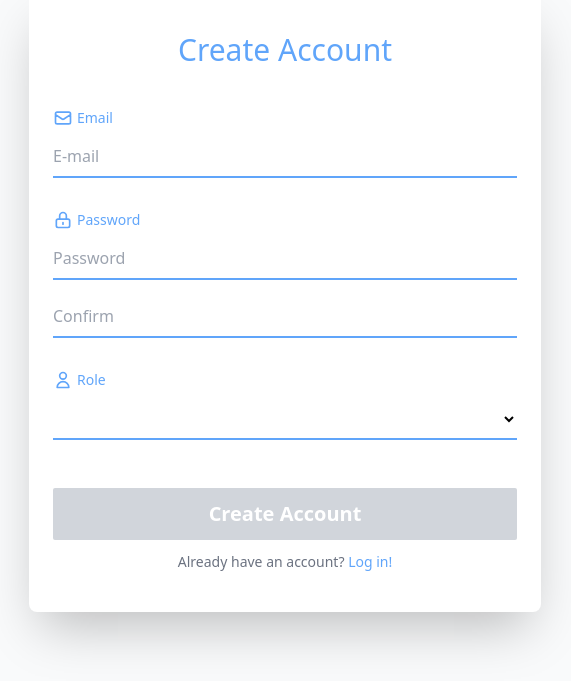
it: <CreateAccount /> › should see email valiadation error message
In the field with placeholder "E-mail": (285, 157) left=53, top=136, right=517, bottom=178, type "wrong@emai"
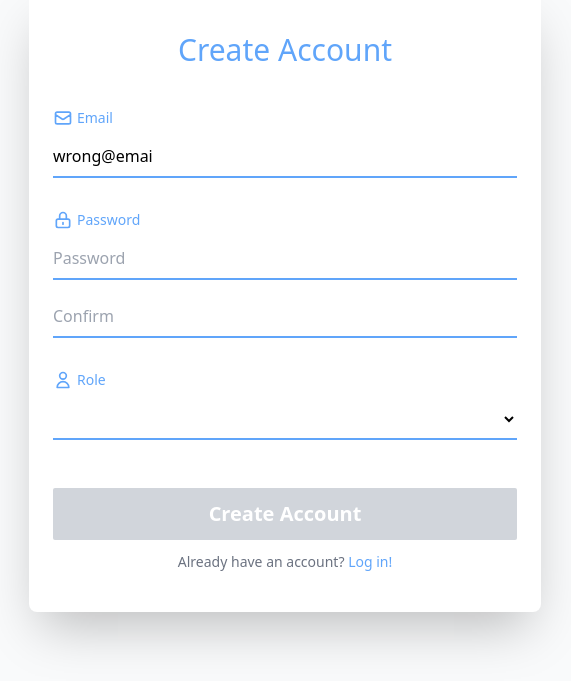
Press Tab
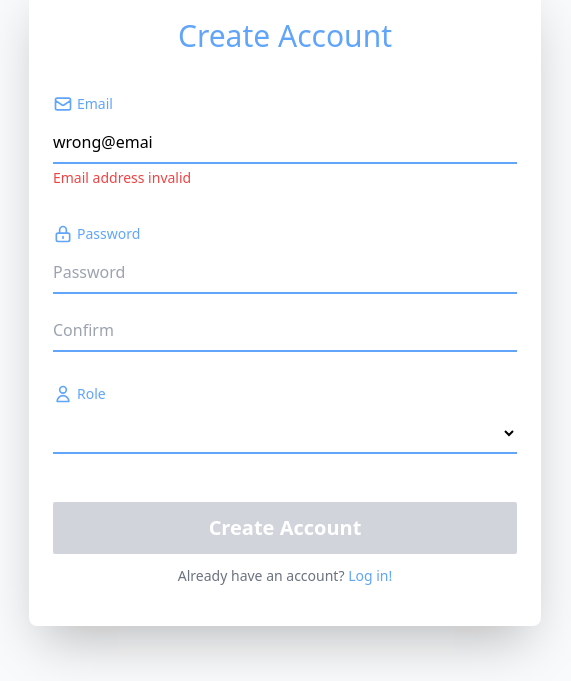
Now the message reads "Email address invalid", box left=53, top=168, right=191, bottom=187
